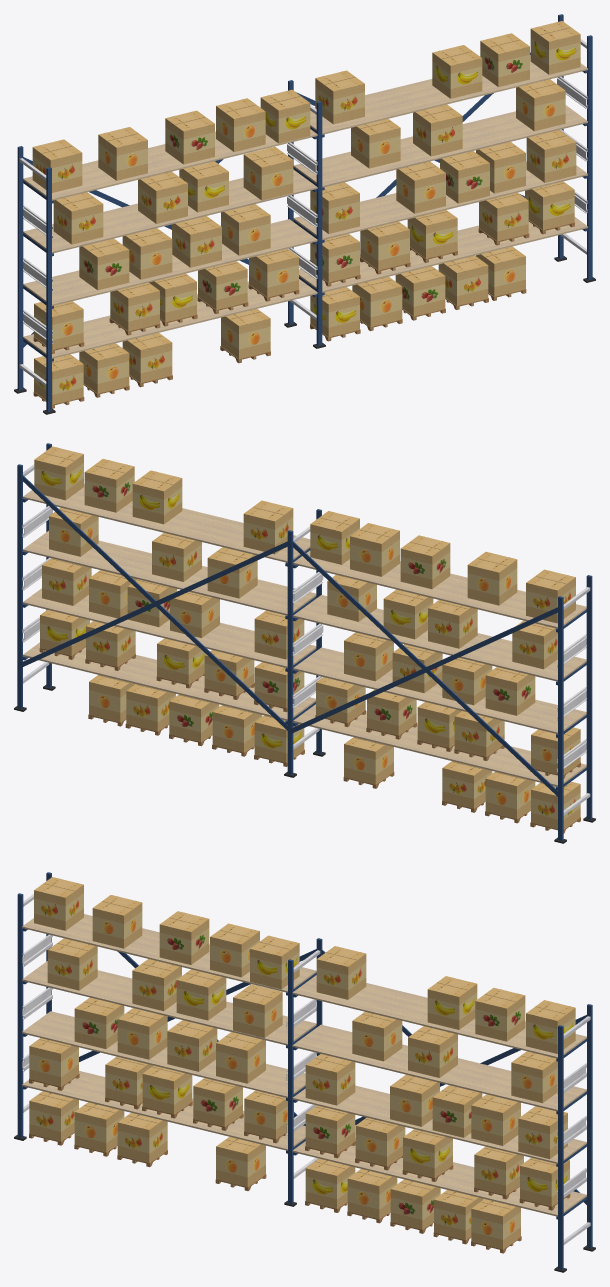
Rendered from BigShelves02Group3.FBX.
3 views of the same model, one above another, from view 1: azimuth 30°, elevation 25°; view 2: azimuth 150°, elevation 25°; view 3: azimuth 330°, elevation 25° (orthographic).
Visible parts, largest first — view 1: Cardboard_box08, Cardboard_box07, BigShelves02, BigShelvesWoodBox; view 2: BigShelves02, Cardboard_box08, Cardboard_box07, BigShelvesWoodBox; view 3: Cardboard_box08, Cardboard_box07, BigShelves02, BigShelvesWoodBox.
Part boxes in pixels (x1,y1,x2,y2): Cardboard_box08: [34, 21, 580, 393]; Cardboard_box07: [32, 33, 576, 404]; BigShelves02: [14, 14, 595, 414]; BigShelvesWoodBox: [33, 220, 574, 408]; BigShelves02: [14, 443, 595, 843]; Cardboard_box08: [34, 446, 580, 818]; Cardboard_box07: [42, 459, 580, 828]; BigShelvesWoodBox: [39, 645, 580, 833]; Cardboard_box08: [29, 895, 575, 1249]; Cardboard_box07: [29, 877, 567, 1240]; BigShelves02: [14, 872, 595, 1272]; BigShelvesWoodBox: [29, 1073, 570, 1253].
Bounding box in the file's own units: 699 × 299 × 71.33.
